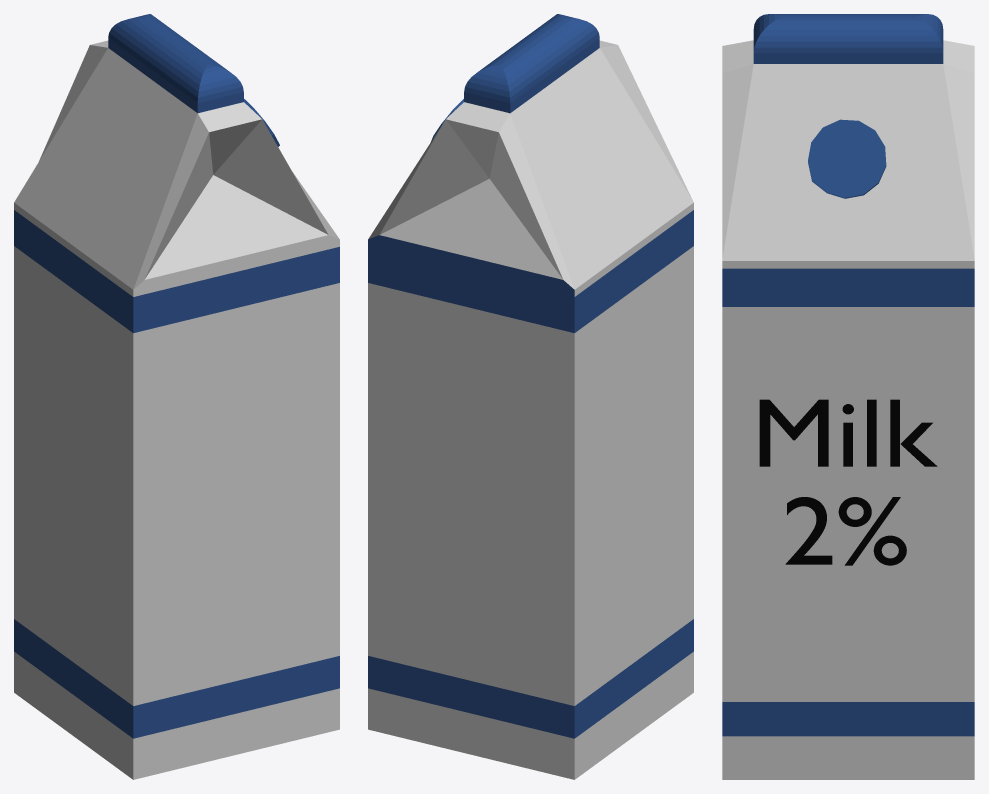
The model's file is Item_MilkBlue.fbx.
3 renders of one model, left to right at view 1: azimuth 30°, elevation 25°; view 2: azimuth 150°, elevation 25°; view 3: azimuth 270°, elevation 25°, orthographic. The views are drawn at different scales.
Visible parts, largest first — view 1: Cube; view 2: Cube; view 3: Cube, Text.
Boxes of the visible parts, x1,y1,x2,y2 form: Cube: [14, 14, 339, 779]; Cube: [368, 14, 693, 779]; Cube: [722, 14, 974, 779]; Text: [759, 399, 937, 565].
Size of the model in its own units: 201 by 619 by 200.
